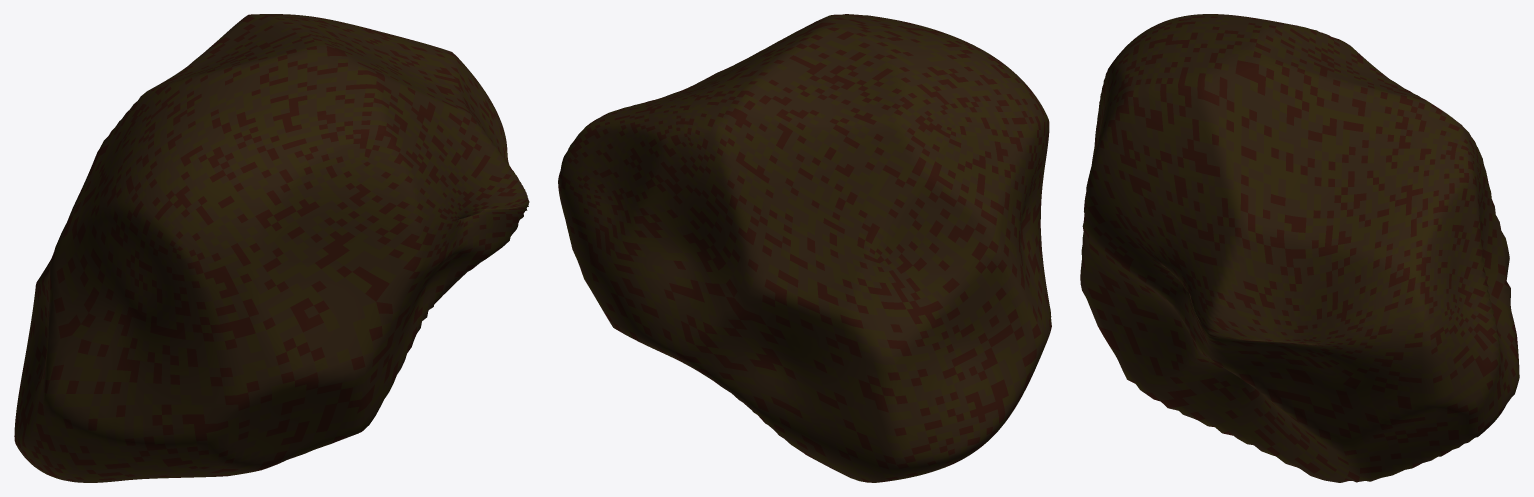
Rendered from rockAsteroid 2 tone 2.fbx.
The picture shows the model from 3 angles, left to right: view 1: azimuth 30°, elevation 25°; view 2: azimuth 150°, elevation 25°; view 3: azimuth 270°, elevation 25°; orthographic projection. The views are drawn at different scales.
Visible parts, largest first — view 1: Cube.003; view 2: Cube.003; view 3: Cube.003.
Part boxes in pixels (<box>): Cube.003: <box>14,14,529,482</box>; Cube.003: <box>558,14,1051,482</box>; Cube.003: <box>1080,14,1519,482</box>.
Bounding box in the file's own units: 335 × 285 × 256.
